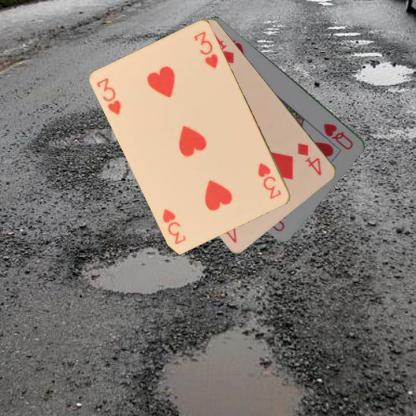3h: (94, 75, 123, 116), (255, 160, 283, 201)
4d: (294, 140, 324, 177)
Qh: (320, 121, 354, 152)
